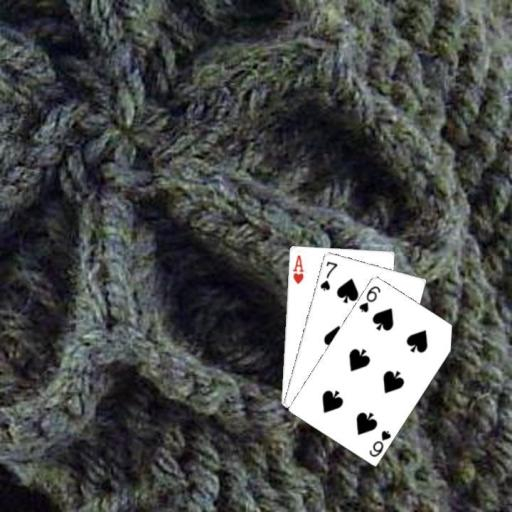6S: (355, 282, 382, 314), (366, 427, 393, 458)
7S: (317, 258, 339, 293)
AH: (289, 252, 305, 285)
